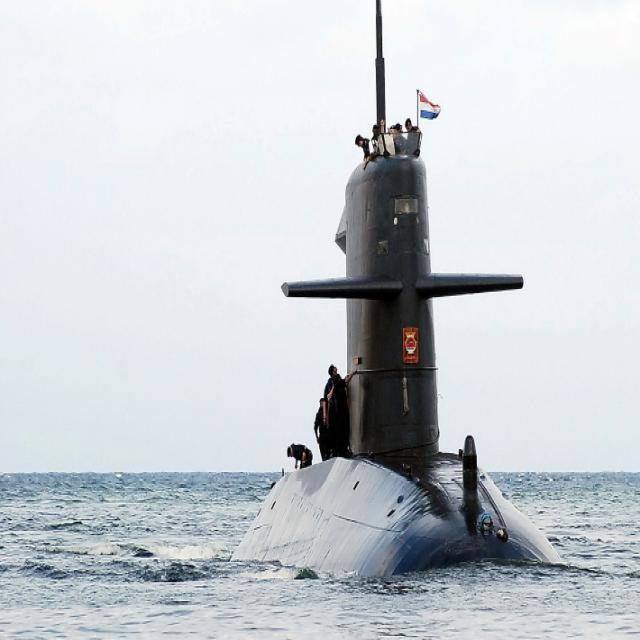submarine: (234, 1, 572, 575)
